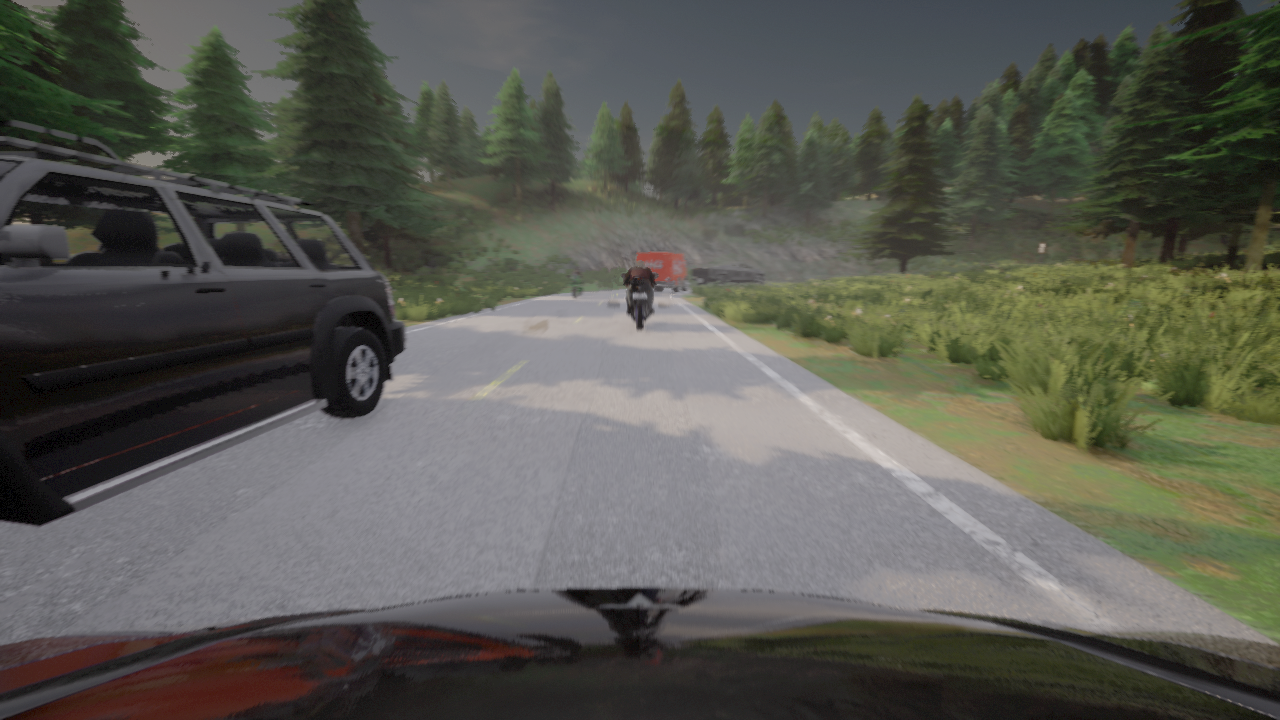cyclist: (0, 588, 1279, 719), (636, 252, 692, 292), (622, 274, 657, 329), (691, 262, 765, 286), (567, 274, 584, 298), (988, 264, 994, 268)
